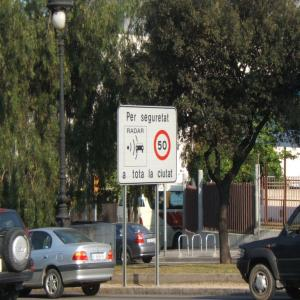Vehicle-registration-plate: (92, 254, 106, 261), (148, 240, 156, 244)
